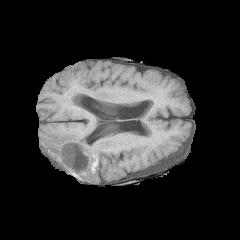glioma: (39, 118, 106, 182)
